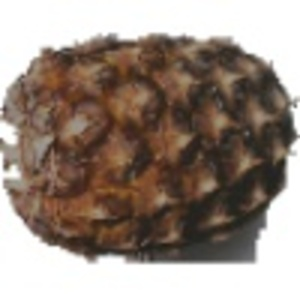abacaxi: (2, 28, 291, 269)
